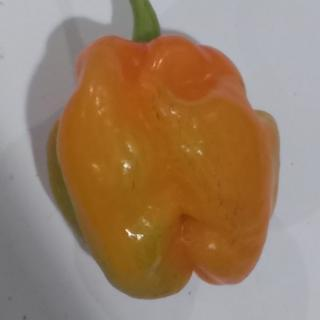Grade-A: (47, 21, 286, 301)
